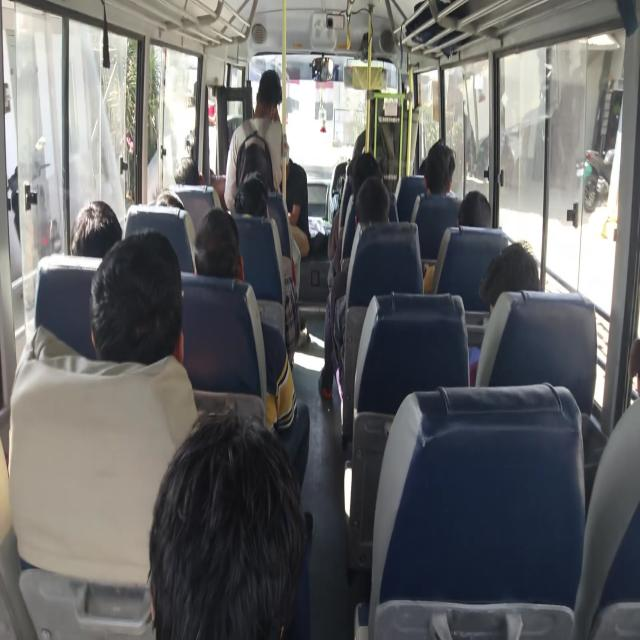person: (148, 409, 306, 636), (89, 230, 184, 368), (422, 179, 487, 299), (478, 240, 542, 312), (192, 207, 242, 280), (280, 138, 314, 239), (70, 199, 122, 261), (354, 174, 391, 229), (420, 140, 454, 197), (233, 173, 269, 221), (350, 151, 382, 203), (457, 189, 492, 229), (257, 68, 282, 104), (174, 156, 202, 187), (153, 188, 186, 209), (418, 155, 430, 179)
